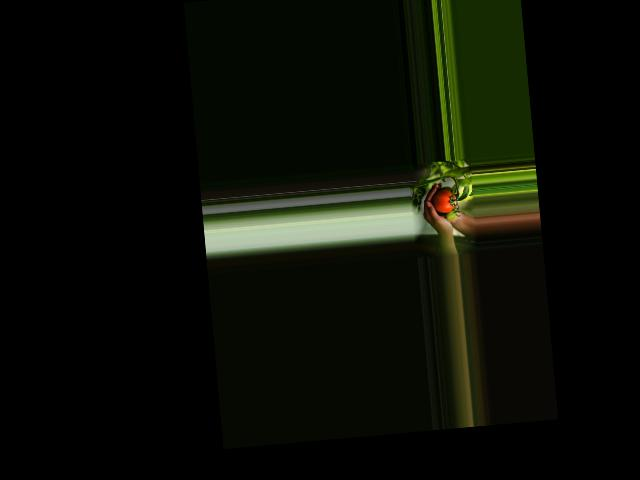tomato: (431, 189, 456, 214)
